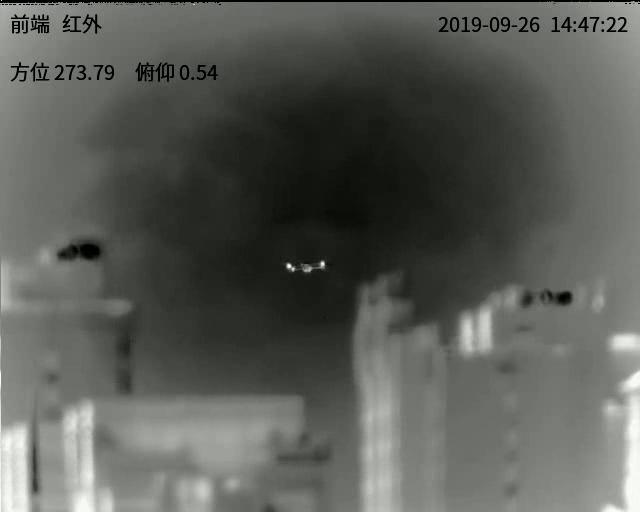DRONE: (285, 259, 327, 274)
